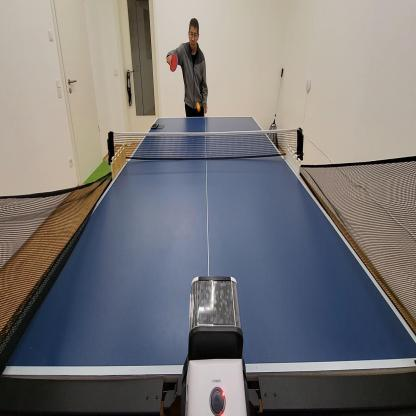Ball: (196, 101, 201, 113)
